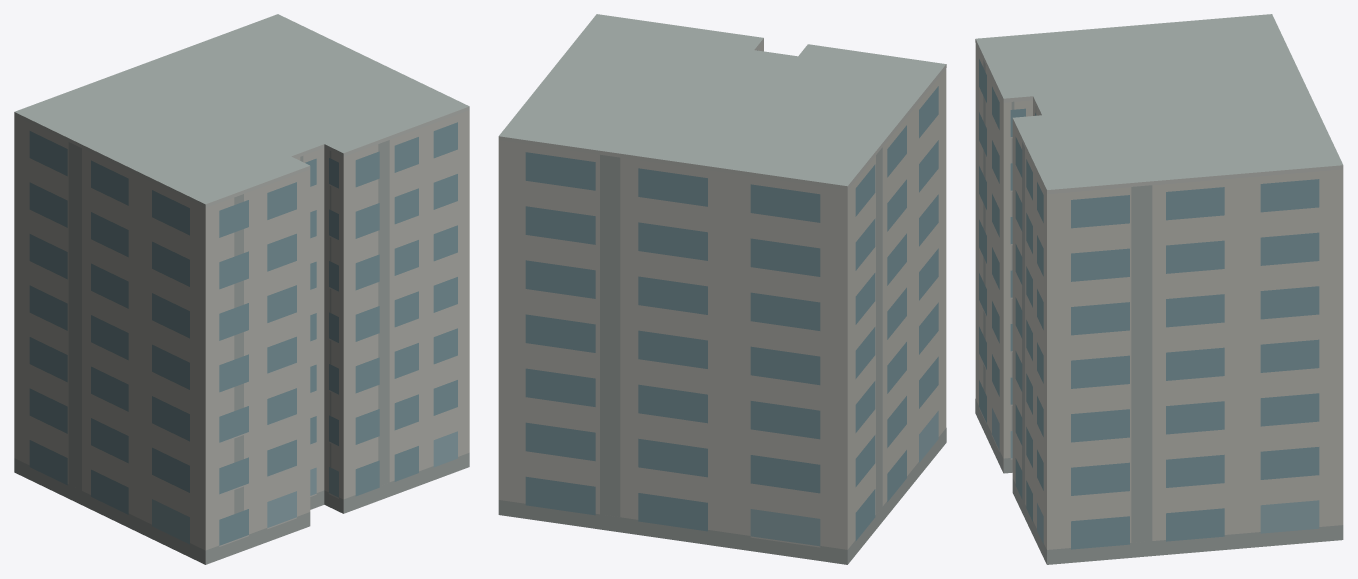
File: survey-upis-32624665.glb
3 views of the same model, side by side, from view 1: azimuth 30°, elevation 25°; view 2: azimuth 150°, elevation 25°; view 3: azimuth 270°, elevation 25° (orthographic). The views are drawn at different scales.
Visible parts, largest first — view 1: survey-upis-32624665.tmp; view 2: survey-upis-32624665.tmp; view 3: survey-upis-32624665.tmp.
Part boxes in pixels (<box>): survey-upis-32624665.tmp: <box>14,14,469,564</box>; survey-upis-32624665.tmp: <box>498,14,946,564</box>; survey-upis-32624665.tmp: <box>975,14,1343,564</box>.
Bounding box in the file's own units: 23.59 × 23.4 × 20.83.
